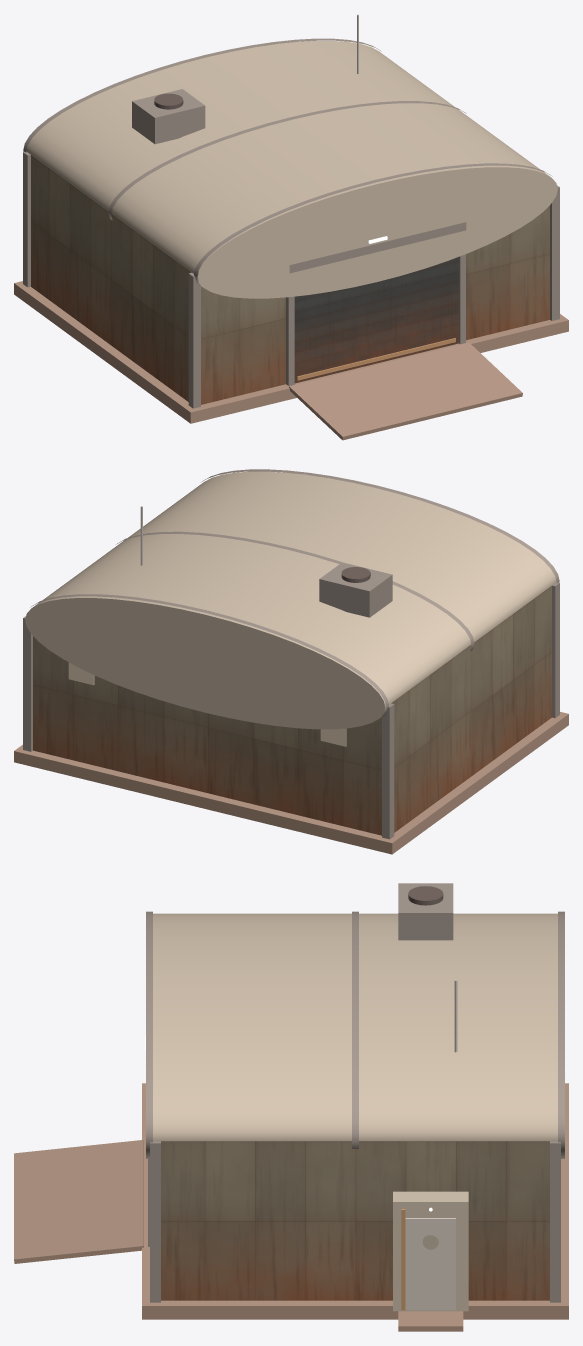
File: I01_rover_garage_1door.glb
3 renders of one model, top to bottom at view 1: azimuth 30°, elevation 25°; view 2: azimuth 150°, elevation 25°; view 3: azimuth 270°, elevation 25°, orthographic. The views are drawn at different scales.
Visible parts, largest first — view 1: arched_roof, hall, door_slats, ramp, foundation_slab, corner_post (×3), roof_rib (×3), roof_vent_unit, door_header, door_jamb (×2), door_bottom_bar; view 2: arched_roof, hall, foundation_slab, corner_post (×3), roof_rib (×3), roof_vent_unit; view 3: arched_roof, hall, ramp, foundation_slab, roof_rib (×3), airlock_door, airlock_box, corner_post (×2), roof_vent_unit, step, roof_fan.
Part boxes in pixels (x1,y1,x2,y2): arched_roof: (26,41,557,298); hall: (31,155,549,404); door_slats: (294,257,458,383); ramp: (289,342,522,440); foundation_slab: (14,281,568,423); corner_post (×3): (23,151,559,408); roof_rib (×3): (23,38,552,288); roof_vent_unit: (132,89,205,144); door_header: (289,222,466,273); door_jamb (×2): (286,254,465,385); door_bottom_bar: (297,338,455,380); arched_roof: (25,471,556,729); hall: (33,586,551,835); foundation_slab: (14,712,568,854); corner_post (×3): (23,582,559,839); roof_rib (×3): (30,469,559,718); roof_vent_unit: (319,562,392,617); arched_roof: (153,913,557,1141); hall: (161,1141,549,1300); ramp: (14,1140,143,1263); foundation_slab: (142,1083,568,1319); roof_rib (×3): (146,911,564,1158); airlock_door: (405,1218,455,1310); airlock_box: (393,1191,468,1311); corner_post (×2): (150,1141,560,1302); roof_vent_unit: (398,883,453,940); step: (398,1311,463,1331); roof_fan: (408,886,443,905).
Size of the model in its own units: 11.45 by 6.46 by 11.05.
Materials: 11 (2 with a texture image).
